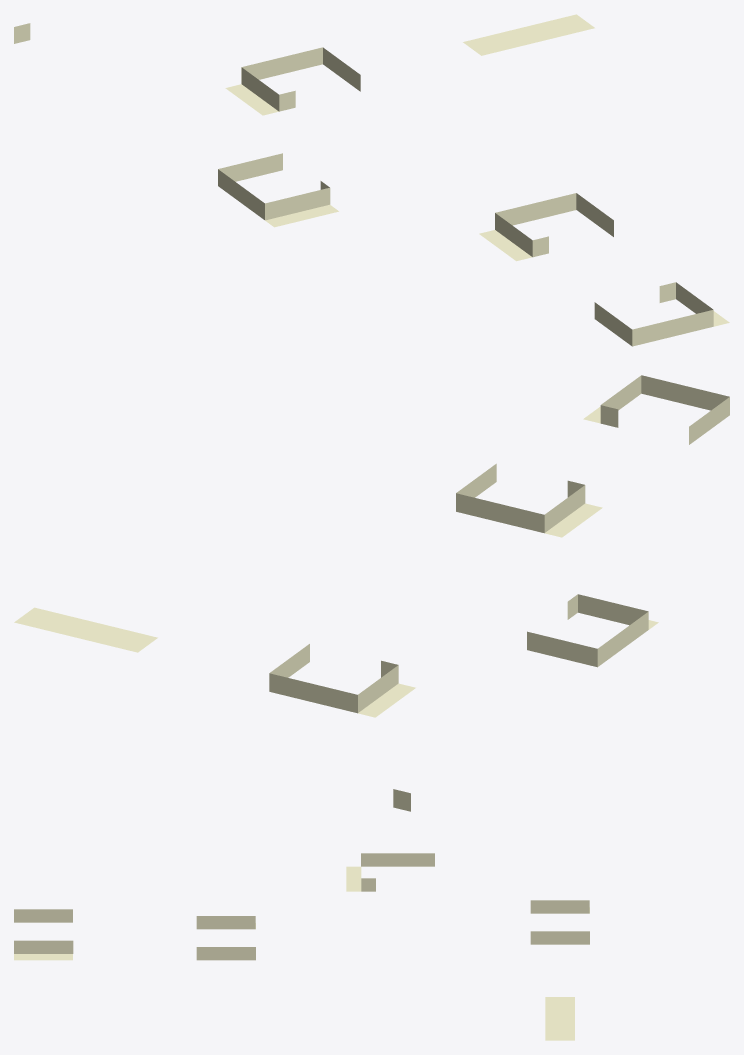
Rendered from object_27_lev2.glb.
3 renders of one model, top to bottom at view 1: azimuth 30°, elevation 25°; view 2: azimuth 150°, elevation 25°; view 3: azimuth 270°, elevation 25°, orthographic. The views are drawn at different scales.
Parts seen in each view (by area): view 1: object_27_lev2; view 2: object_27_lev2; view 3: object_27_lev2.
Boxes of the visible parts, box(x1,y1,x2,y2) form: object_27_lev2: box(14, 14, 729, 346); object_27_lev2: box(14, 375, 729, 811); object_27_lev2: box(14, 853, 589, 1040).
Bounding box in the file's own units: 39.41 × 2.3 × 67.07.
